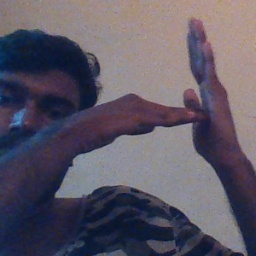Z: (116, 14, 238, 176)
